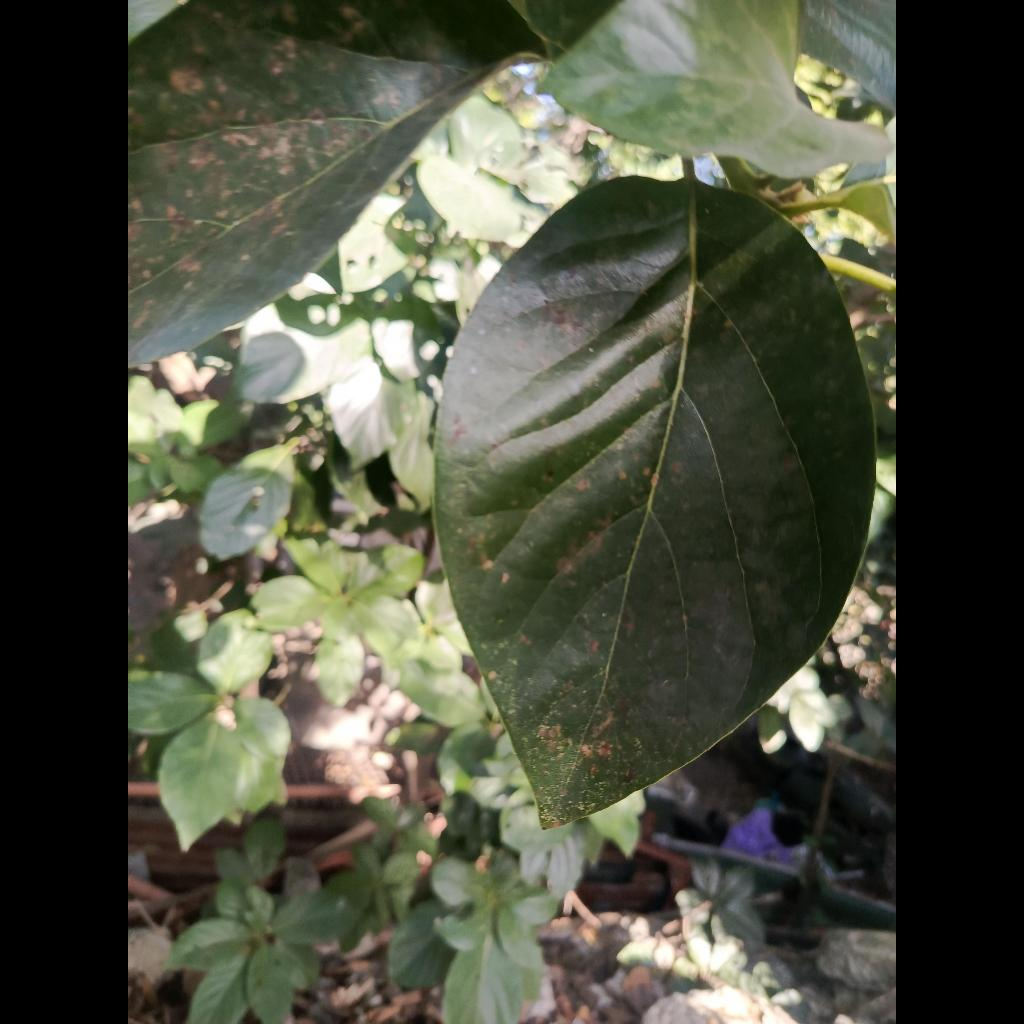Anthracnose: (436, 177, 875, 827), (128, 0, 539, 365)
